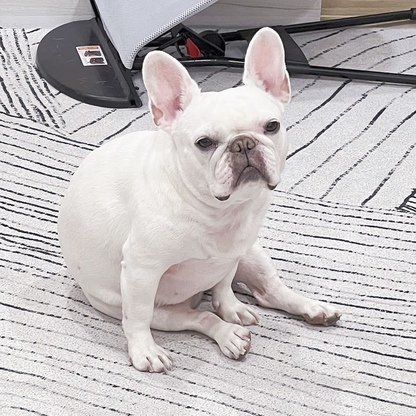bulldog: (54, 25, 342, 377)
